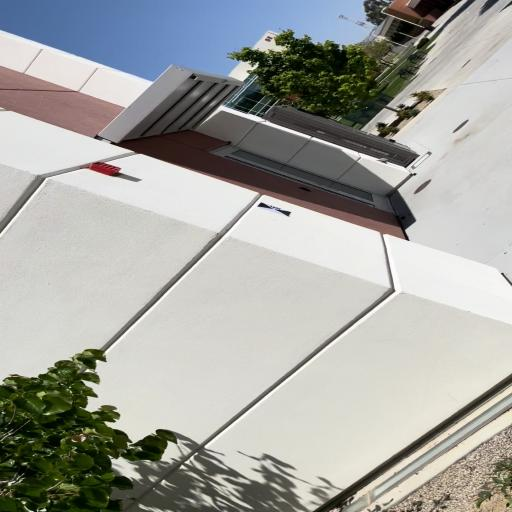target6: (257, 202, 294, 218)
